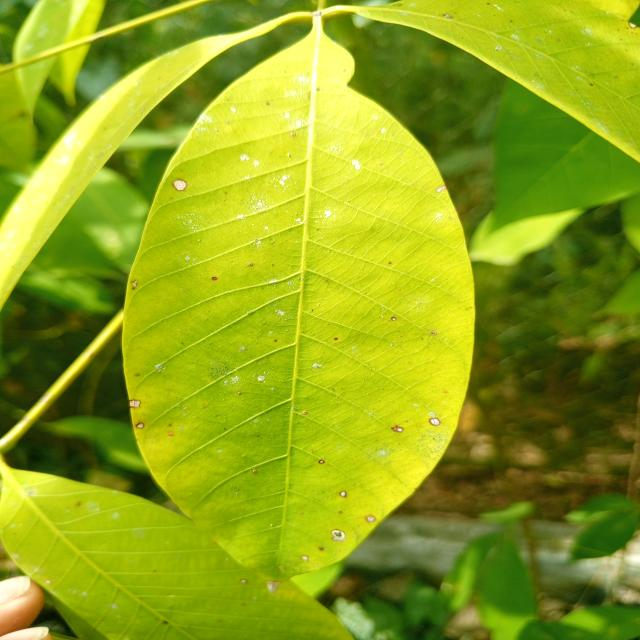Colletotrichum: (173, 179, 187, 191), (429, 417, 440, 426), (396, 427, 404, 433), (339, 491, 347, 497), (136, 422, 144, 428), (318, 460, 325, 464), (392, 317, 396, 321), (212, 277, 217, 280)
